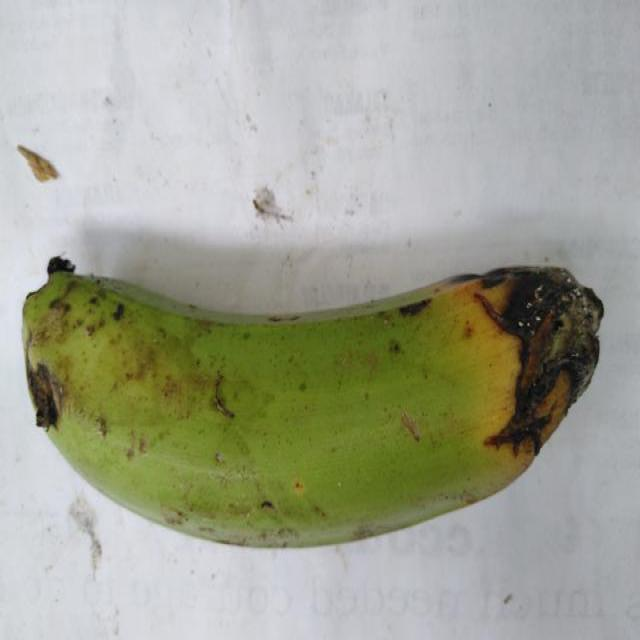Podre: (2, 272, 640, 557)
